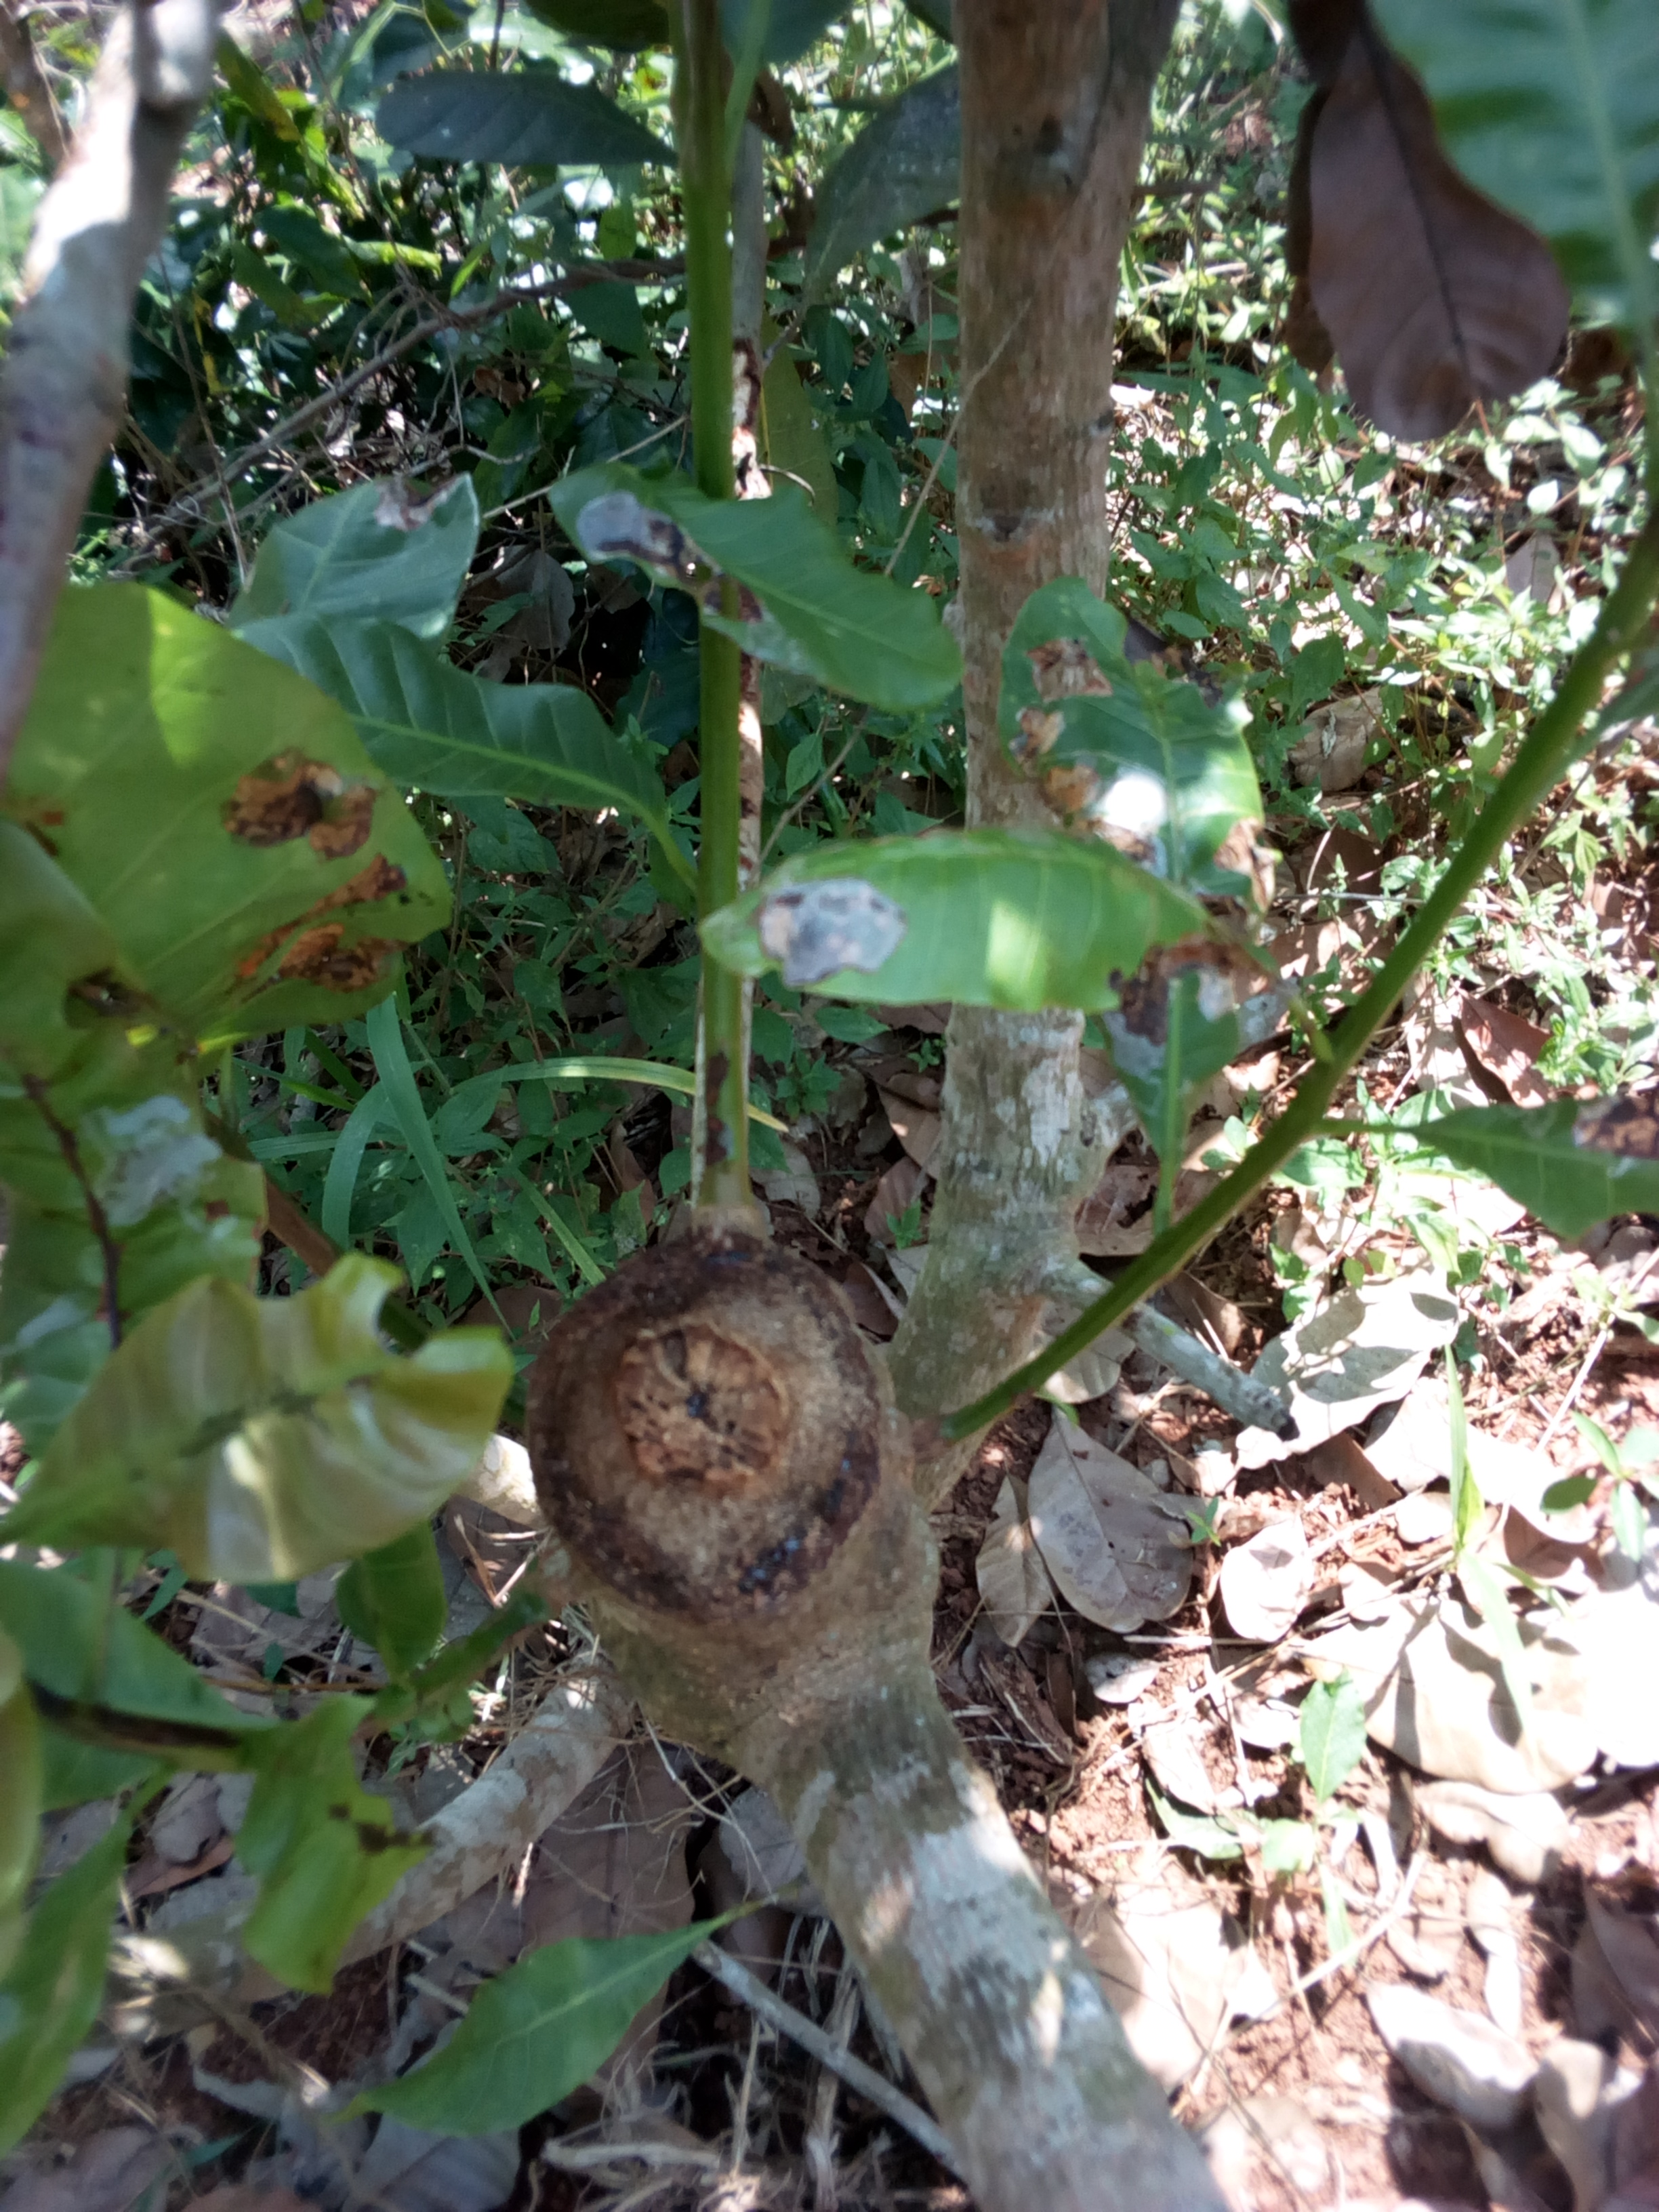Analepse trifasciata: (464, 1198, 955, 1683)
